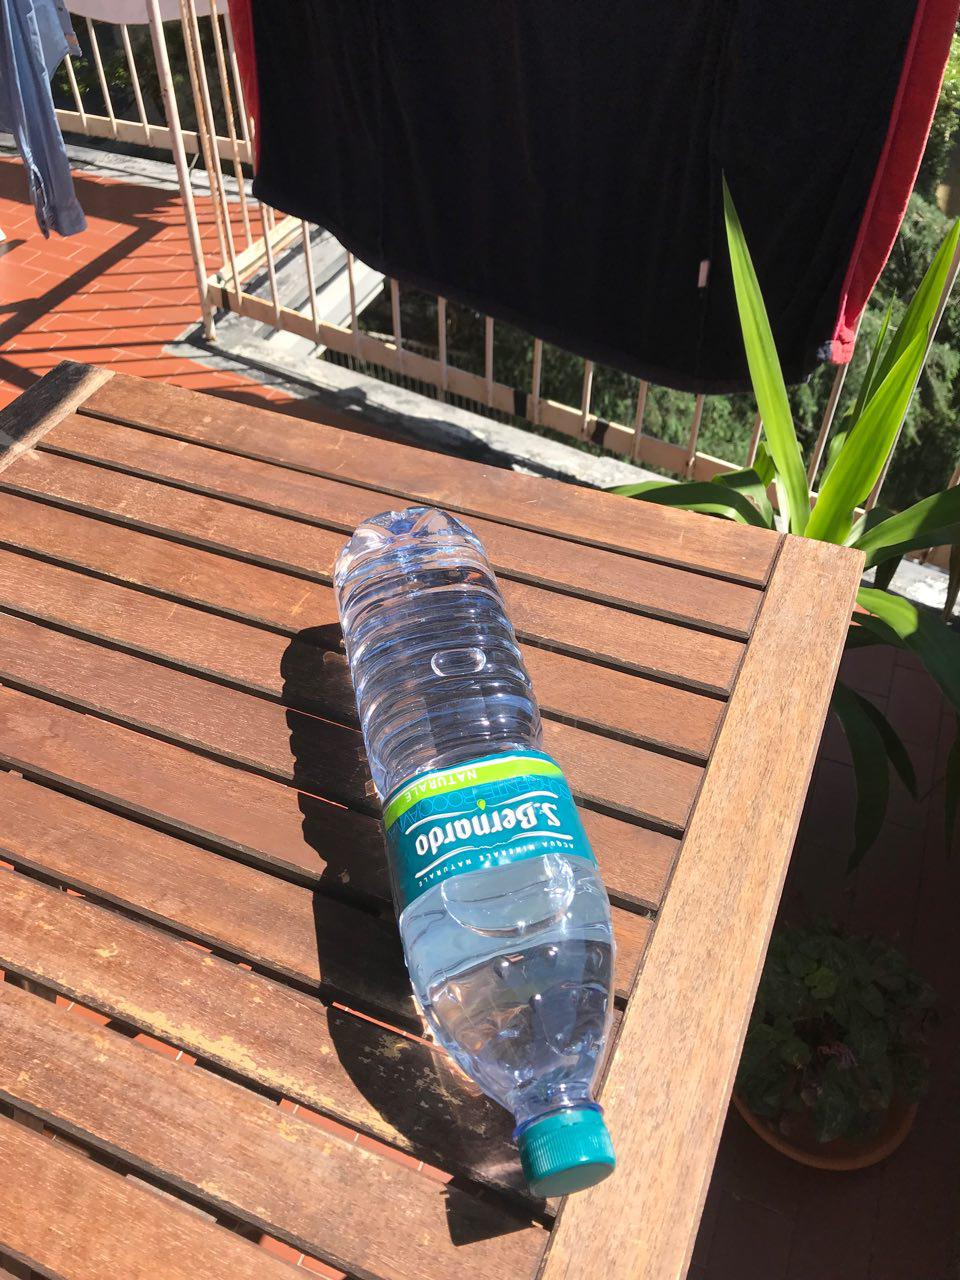san_bernardo: (333, 506, 617, 1199)
